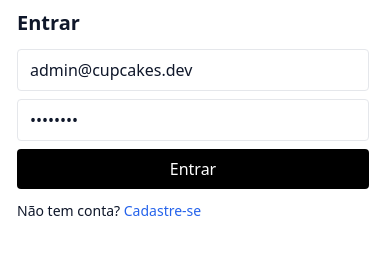
Login › deve exibir mensagem de erro em caso de falha
Click the button "Entrar".
click(193, 169)  # box [17,149,369,189]
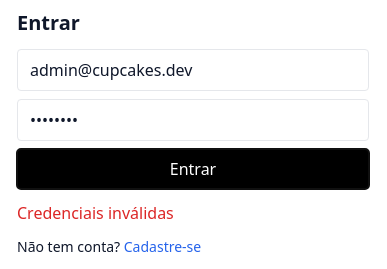
Check: the text "Credenciais inválidas" is shown, box [17,202,174,224]
